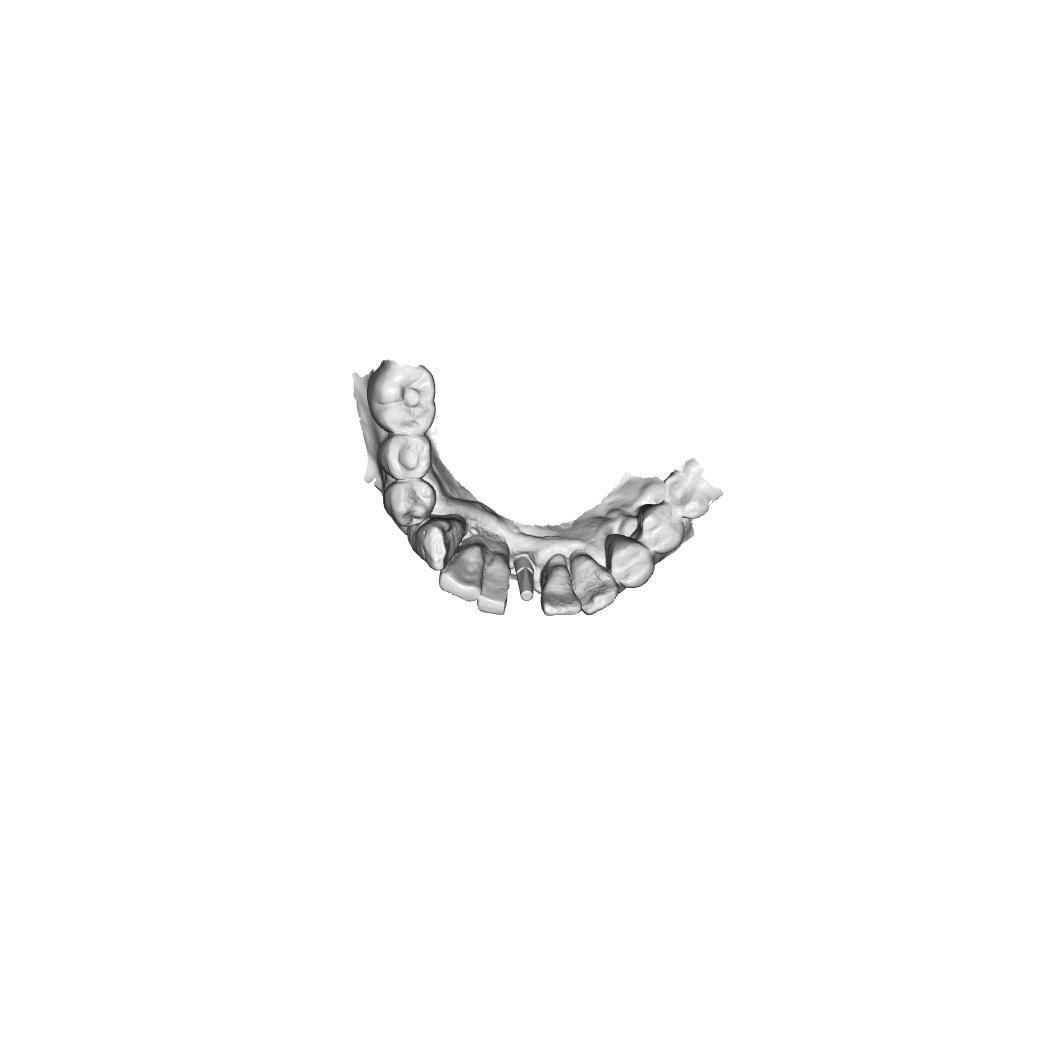abutment: (509, 551, 536, 606)
canine: (569, 551, 622, 618), (410, 513, 468, 573)
incisor: (437, 540, 487, 603), (538, 562, 583, 618), (475, 554, 509, 616)
molar: (364, 359, 439, 436), (659, 458, 726, 520)
premolar: (382, 477, 438, 531), (374, 433, 435, 482), (606, 535, 655, 590), (639, 508, 687, 557)
